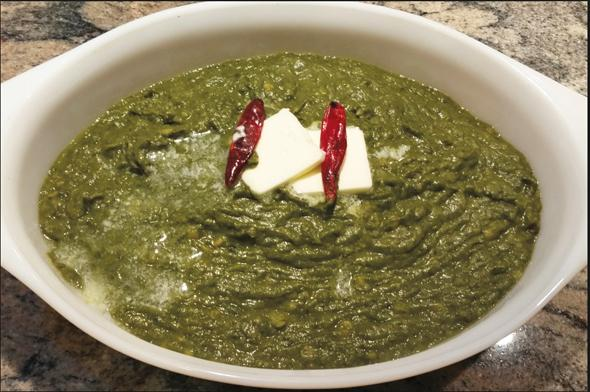saag: (44, 58, 553, 368)
